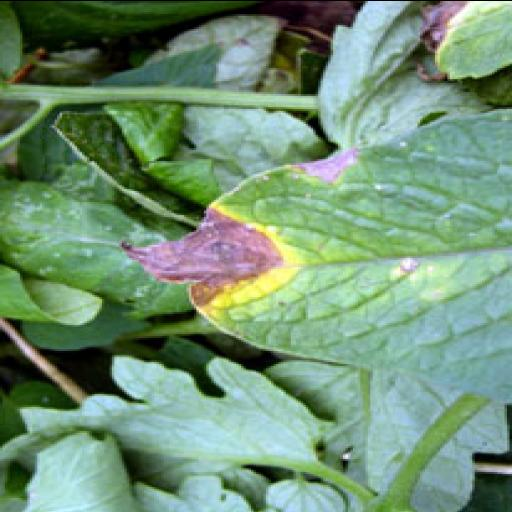disease_tomato: (114, 95, 512, 406)
